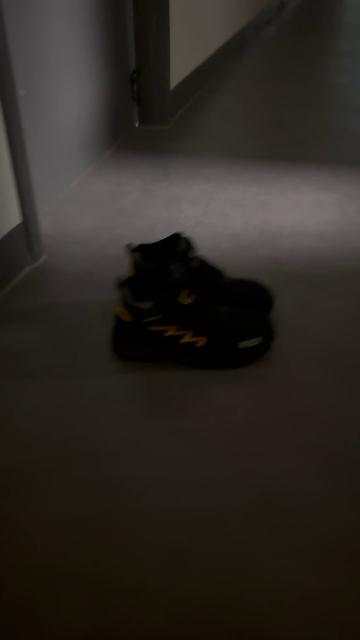shoe_worn: (111, 273, 275, 367), (122, 235, 274, 310)
